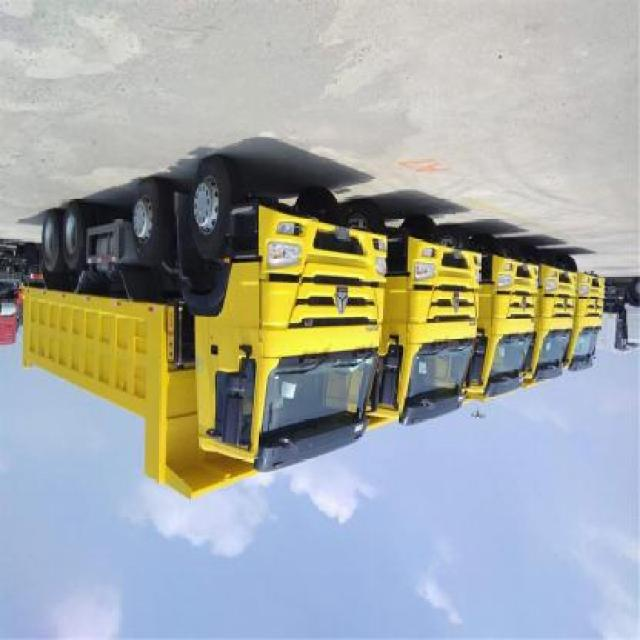truck: (22, 163, 386, 503), (369, 206, 492, 438), (471, 249, 539, 412), (534, 260, 583, 391), (569, 265, 611, 385)
